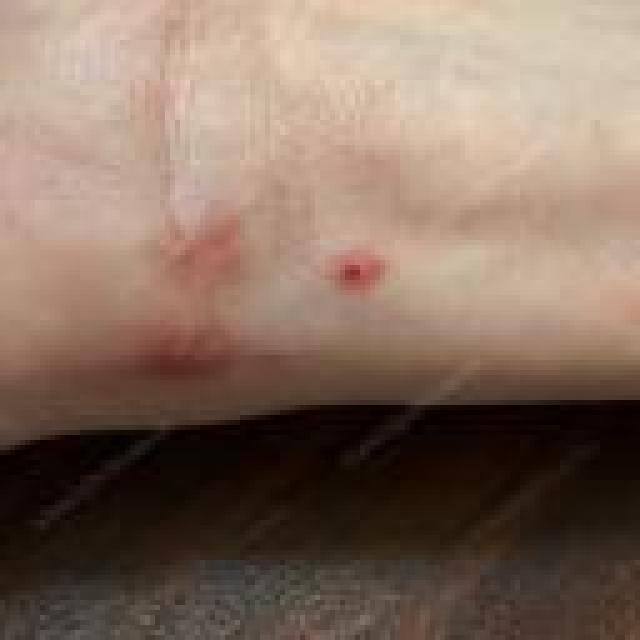Shingles: (157, 205, 245, 286), (139, 327, 238, 382)
